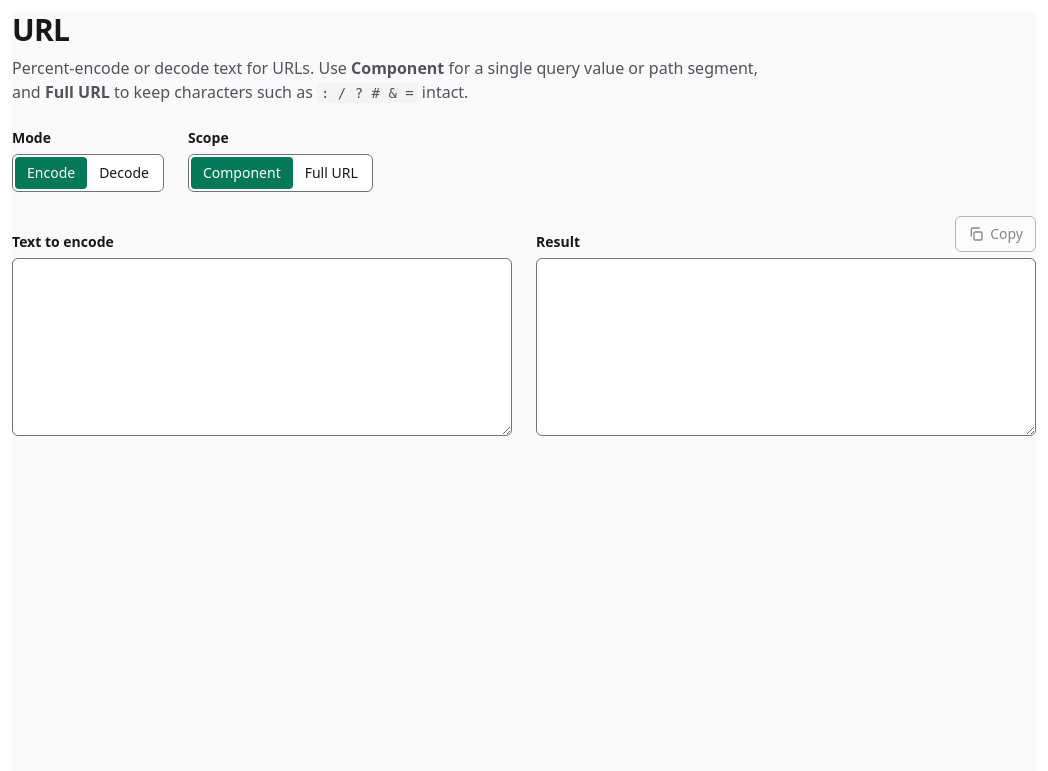
Test: UrlTool › encodes text and breaks down URLs
The width and height of the screenshot is (1048, 771).
Type "https://example.com/?q=a b" into the text box labelled "Text to encode" at (262, 347), box 12,258 -> 512,436
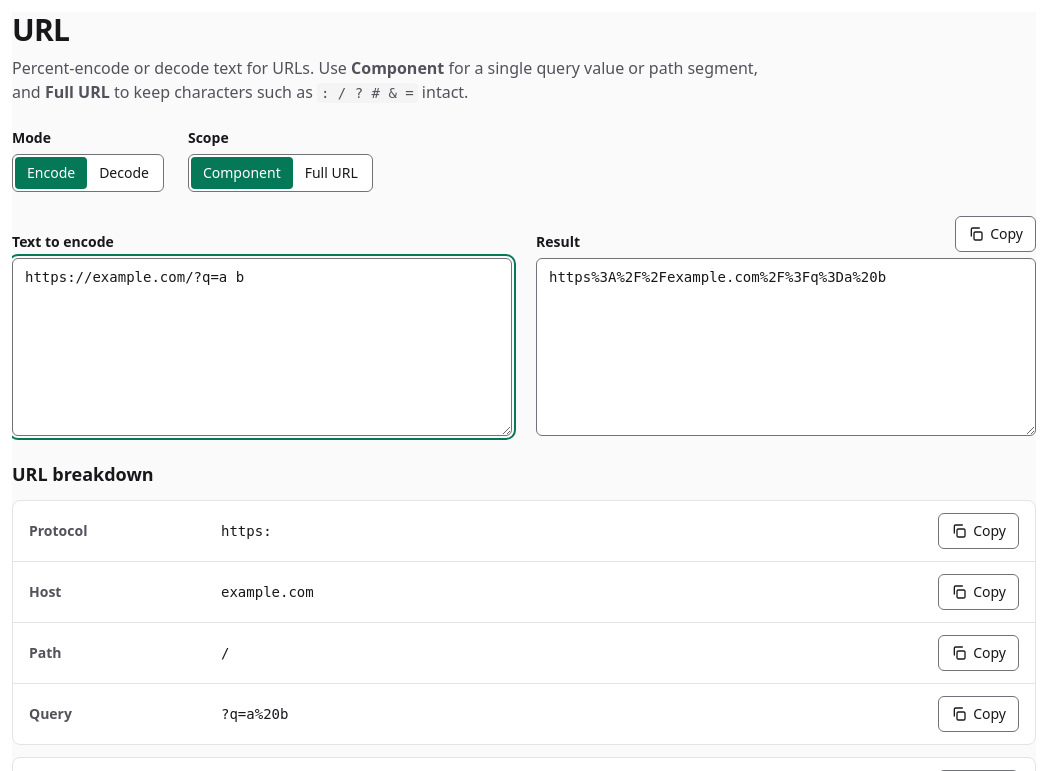
Expected: the text box labelled "Result" holds "https%3A%2F%2Fexample.com%2F%3Fq%3Da%20b", 536,258 -> 1036,436
Expected: the heading "URL breakdown" is shown, 12,462 -> 154,486
